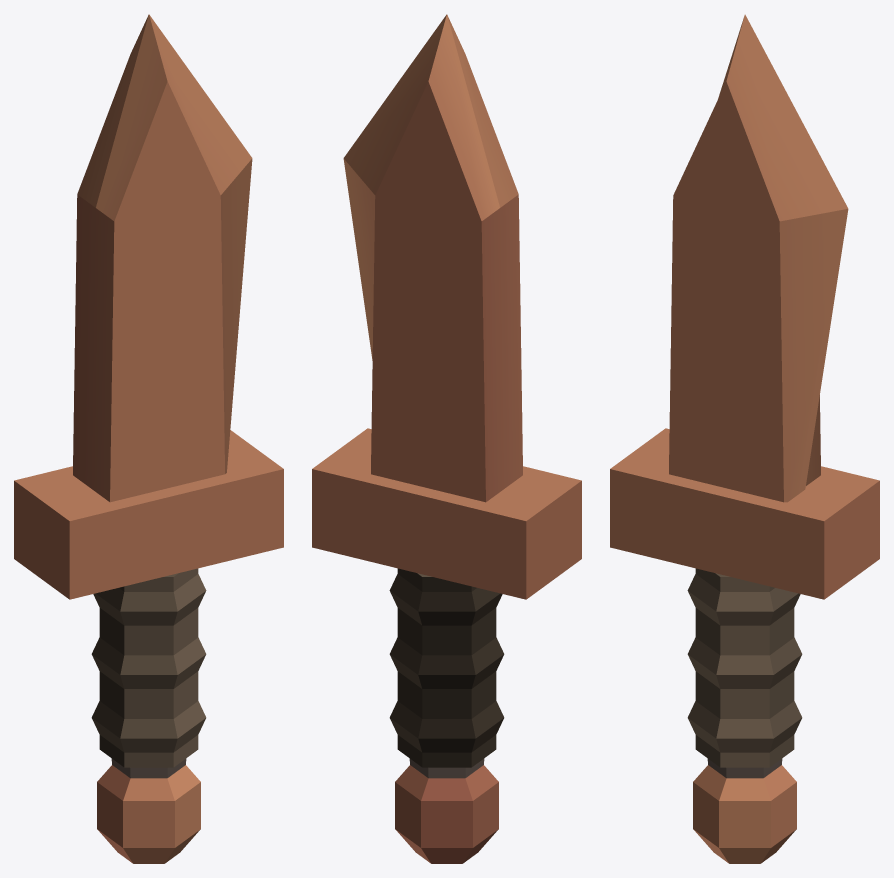
Rendered from rogue_daggers_0.gltf.
3 views of the same model, side by side, from view 1: azimuth 30°, elevation 25°; view 2: azimuth 150°, elevation 25°; view 3: azimuth 330°, elevation 25° (orthographic).
Visible parts, largest first — view 1: rogue_daggers_0; view 2: rogue_daggers_0; view 3: rogue_daggers_0.
Boxes of the visible parts, x1,y1,x2,y2 form: rogue_daggers_0: [14, 14, 283, 863]; rogue_daggers_0: [312, 14, 581, 863]; rogue_daggers_0: [610, 14, 879, 863].
Bounding box in the file's own units: 0.2 × 0.748 × 0.0928.
Materials: 1 (1 with a texture image).
